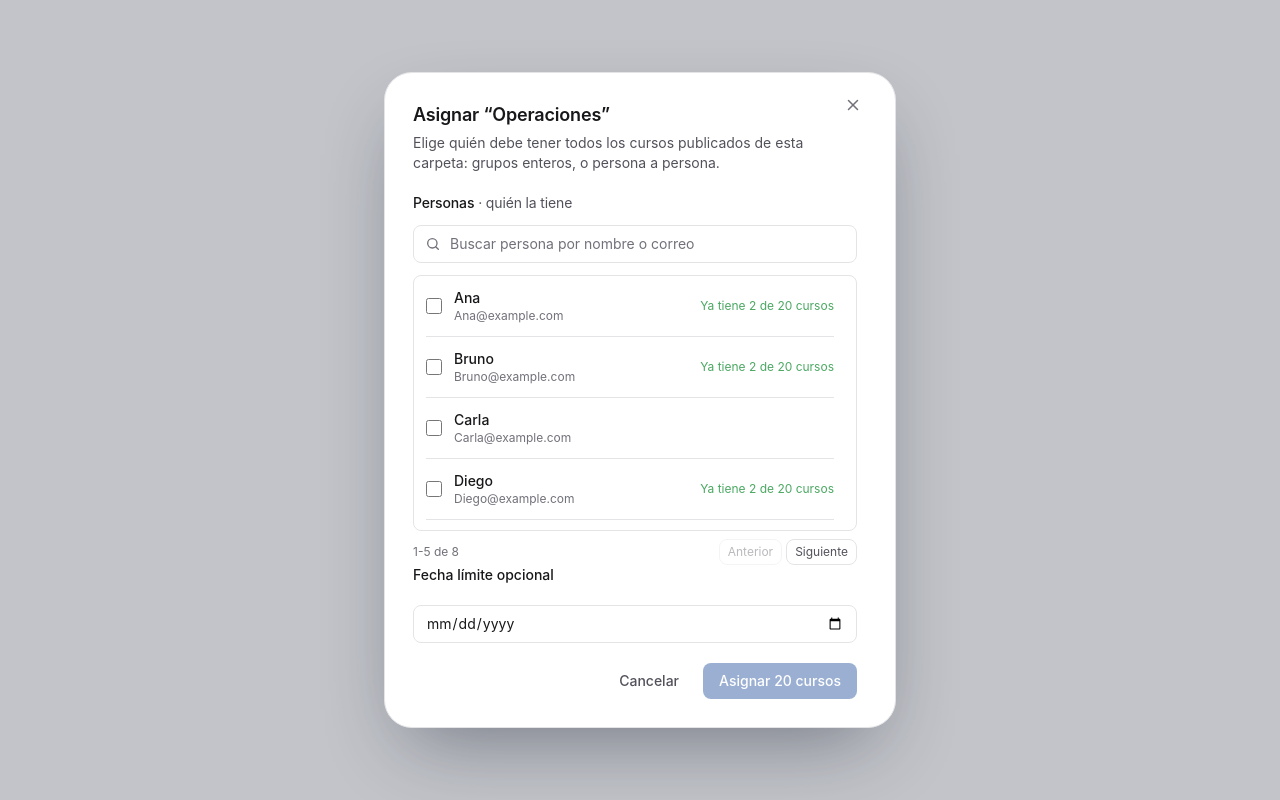
Test: FolderAssignmentDialog › a decision survives paging away from it › a tick taken back before submitting leaves no trace
Expected: the text "Carla" is shown, left=454, top=411, right=489, bottom=428
Expected: the text "1-5 de 8" is shown, left=413, top=544, right=459, bottom=560
What coordinates should you click on to do the following:
click the checkbox labelled "Carla Carla@example.com"
I would click on:
 (434, 428)
Its box is left=426, top=420, right=442, bottom=436.
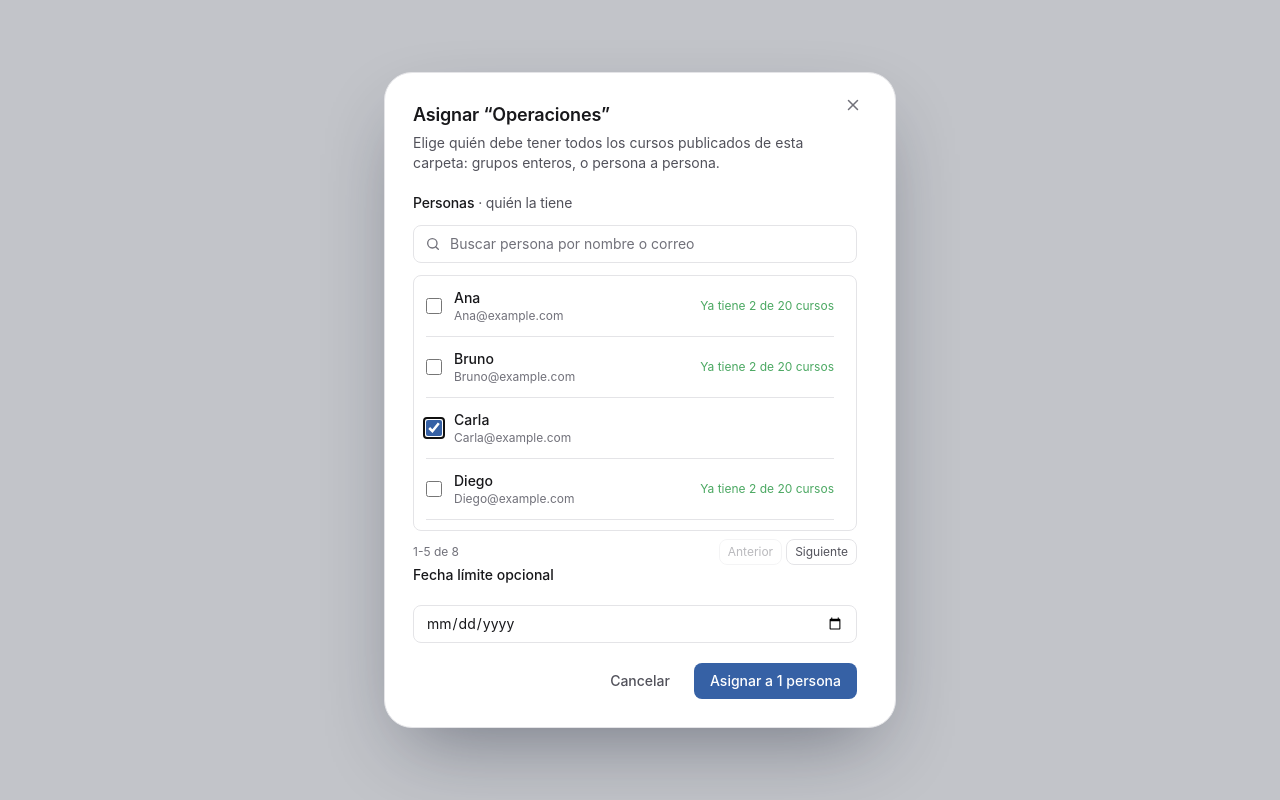
What coordinates should you click on to do the following:
click the checkbox labelled "Carla Carla@example.com"
I would click on:
 (434, 428)
Its box is left=426, top=420, right=442, bottom=436.
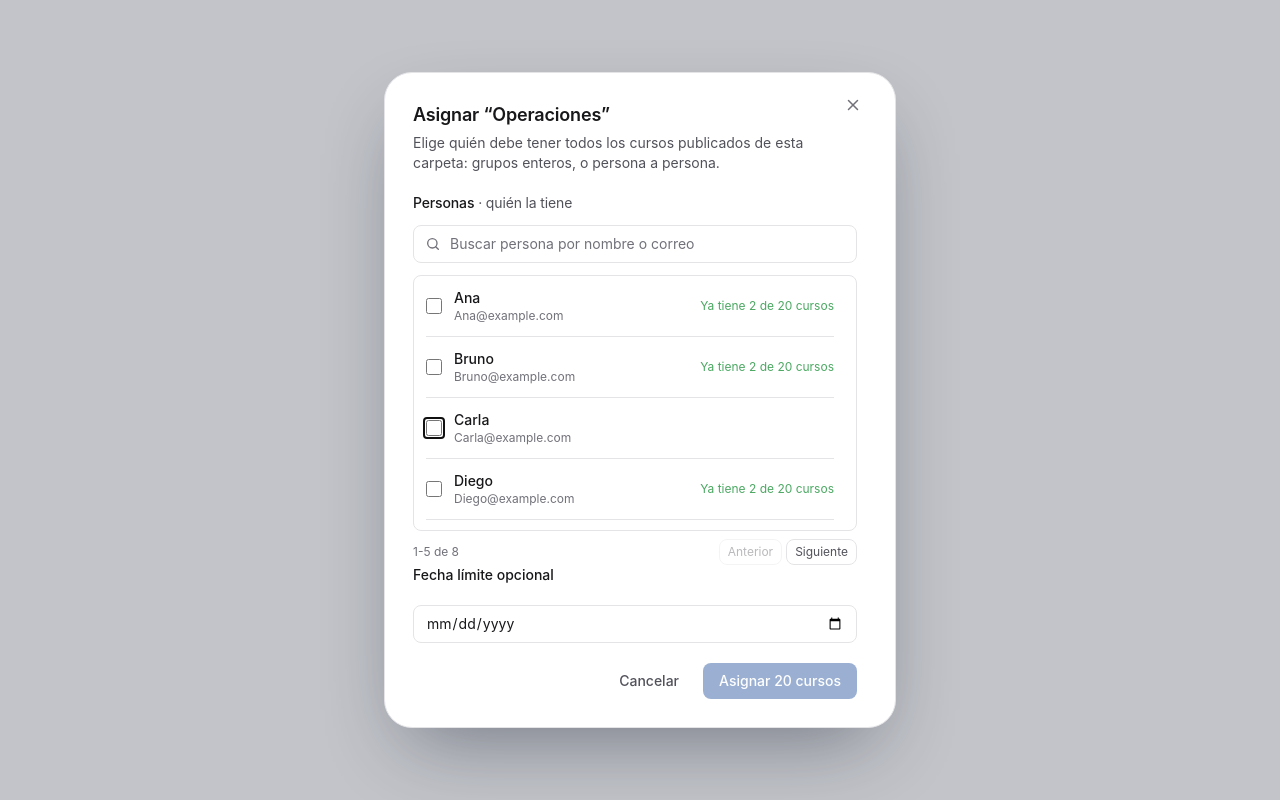
Expected: the button "Asignar 20 cursos" is disabled, left=703, top=663, right=857, bottom=699
